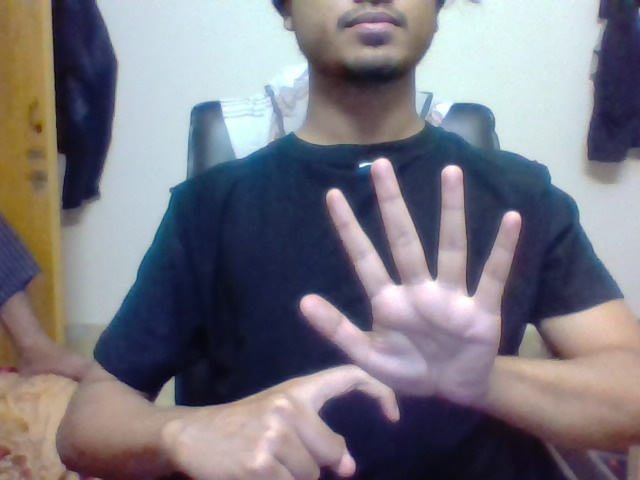R: (281, 361, 407, 478)
